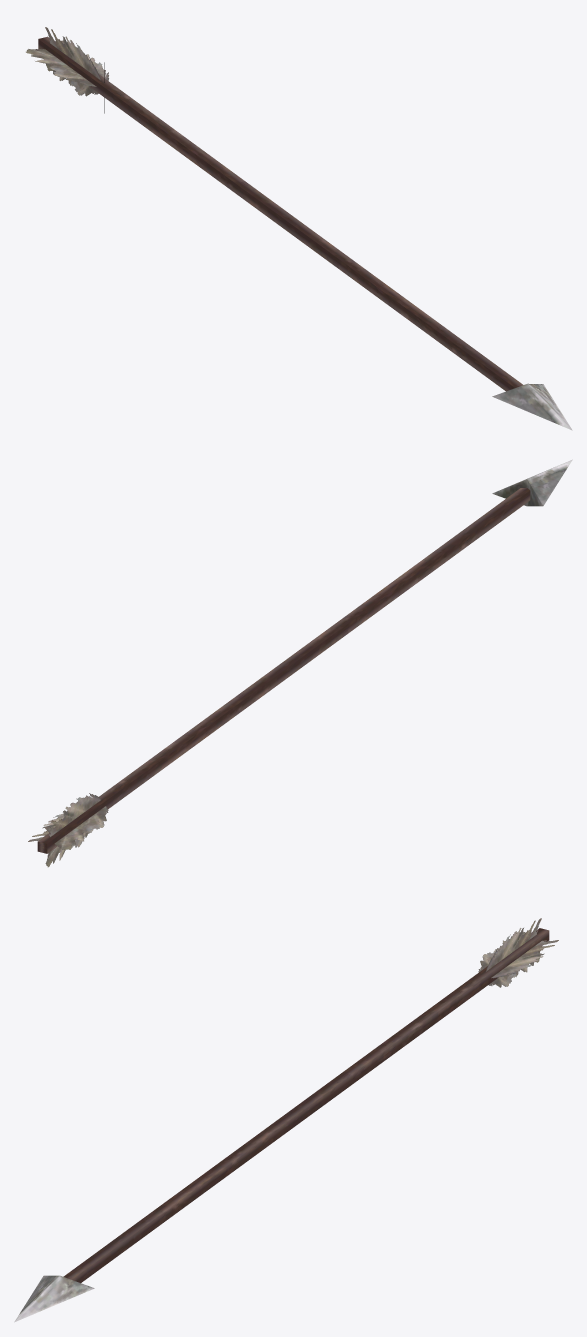
3 views of the same model, one above another, from view 1: azimuth 30°, elevation 25°; view 2: azimuth 150°, elevation 25°; view 3: azimuth 330°, elevation 25° (orthographic).
Visible parts, largest first — view 1: Box05; view 2: Box05; view 3: Box05.
Boxes of the visible parts, bbox=[...] form: Box05: bbox=[26, 27, 572, 430]; Box05: bbox=[28, 459, 572, 867]; Box05: bbox=[14, 918, 558, 1322].
Bounding box in the file's own units: 5.38 × 5.12 × 96.61.
Materials: 1 (1 with a texture image).
